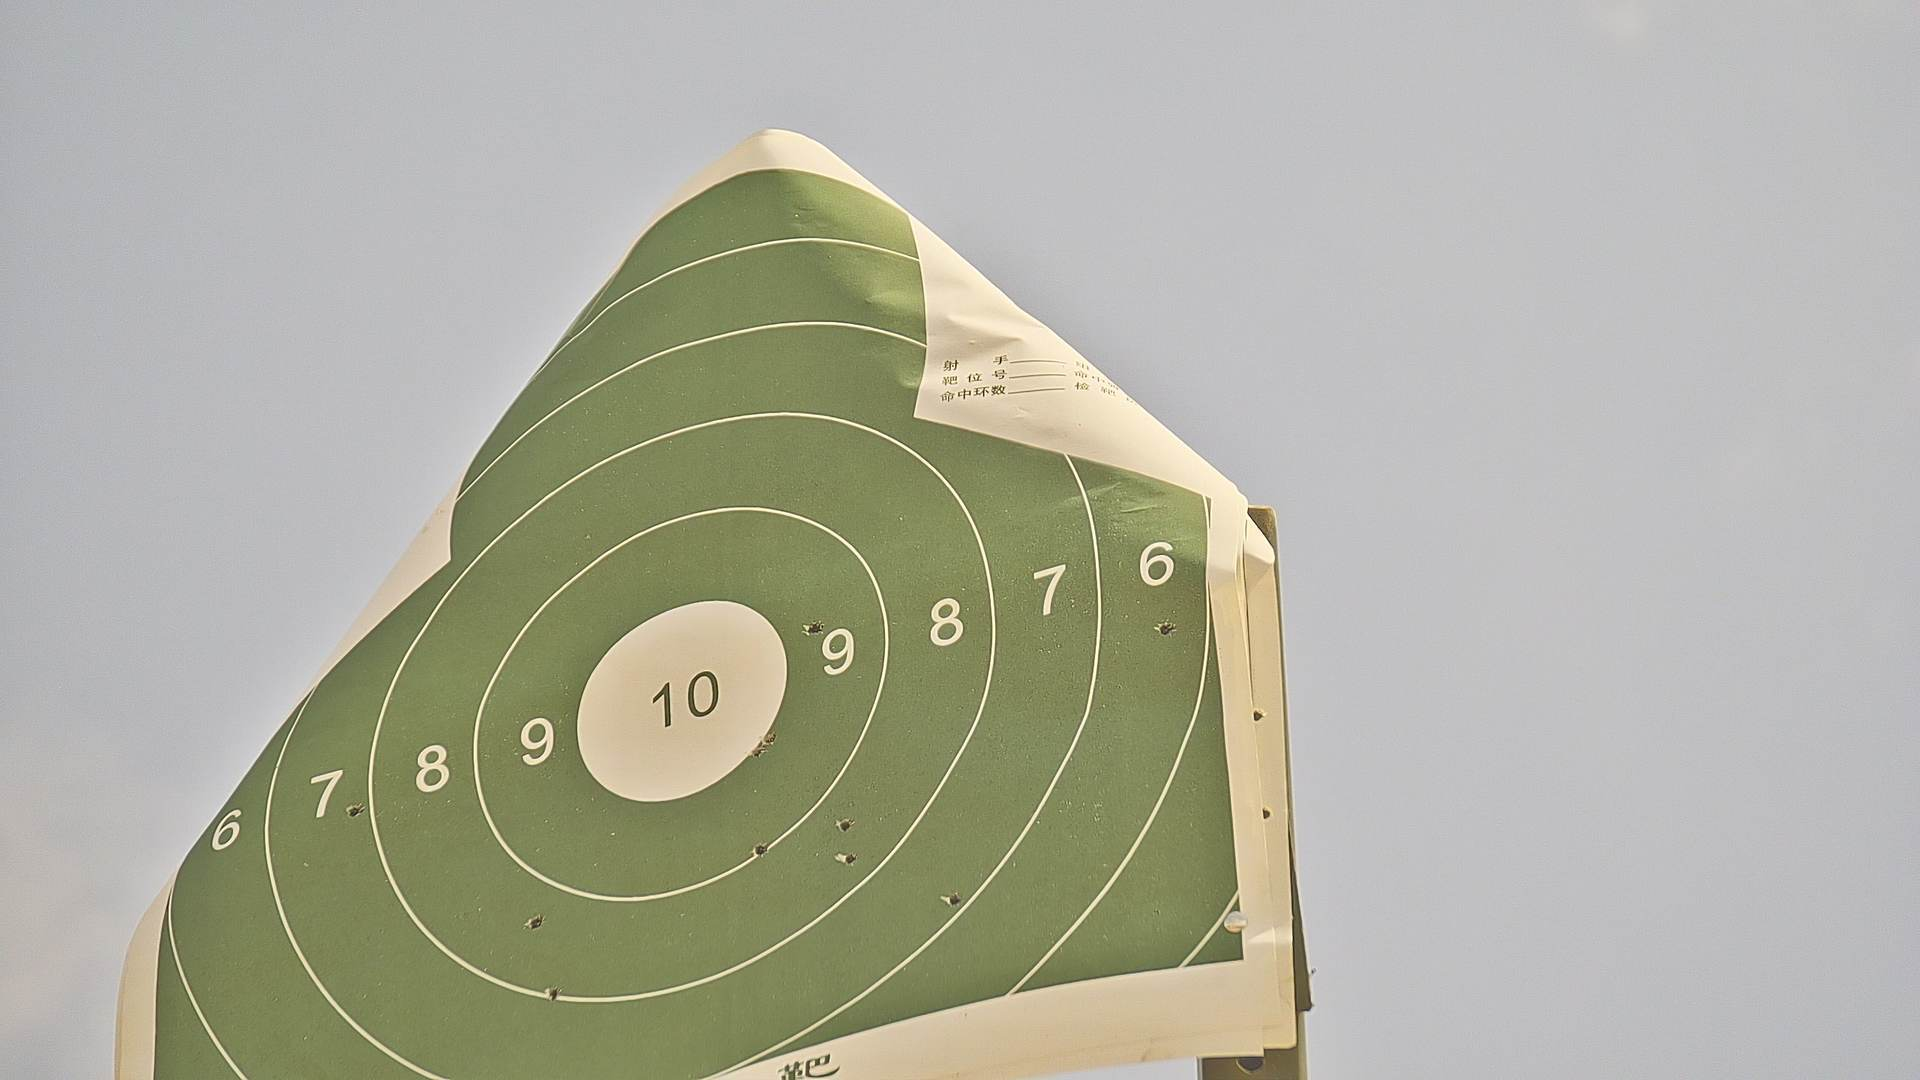hole: (344, 803, 367, 816), (947, 891, 964, 909), (1155, 622, 1175, 637), (804, 621, 824, 636), (764, 731, 781, 745), (752, 841, 767, 856), (545, 985, 559, 1001), (837, 819, 855, 832), (527, 916, 545, 928), (841, 855, 858, 865), (752, 742, 761, 760)
kernel: (673, 696, 682, 702)
target: (152, 166, 1250, 1080)
ten: (578, 597, 789, 807)
